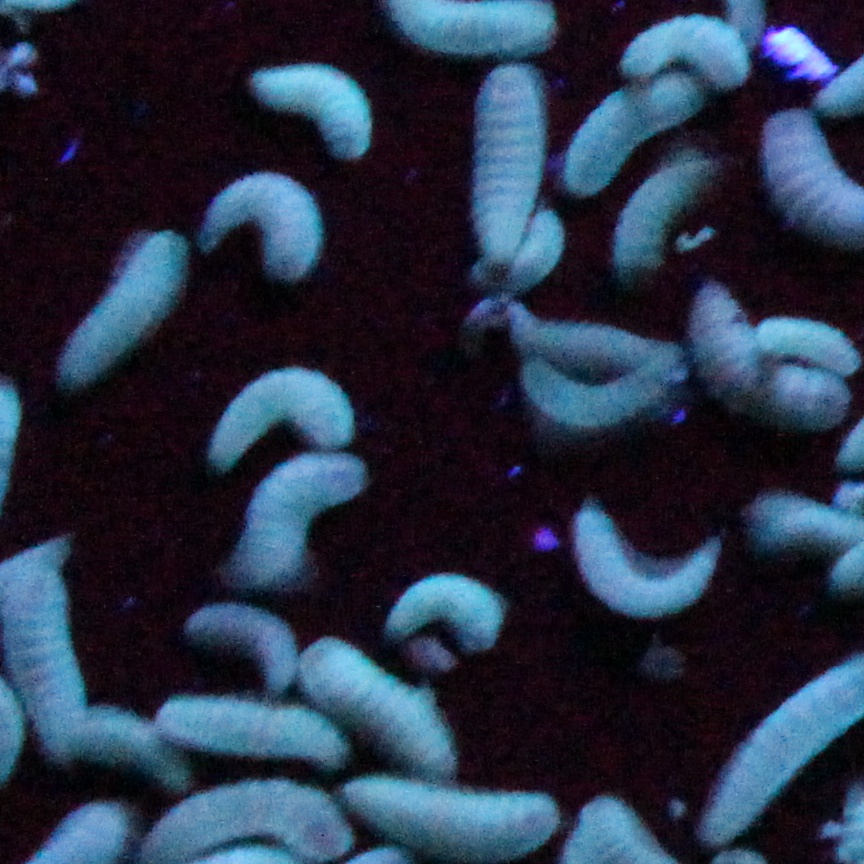larve: (698, 293, 845, 432), (313, 644, 454, 781), (63, 228, 178, 375), (233, 453, 357, 588), (156, 695, 352, 774), (559, 75, 698, 186), (15, 568, 87, 758), (208, 367, 354, 458), (156, 789, 345, 858), (582, 514, 701, 605), (245, 72, 370, 158), (349, 793, 554, 844), (217, 175, 315, 275), (626, 153, 701, 277), (475, 67, 527, 242), (512, 314, 664, 372), (527, 367, 663, 430), (629, 16, 747, 86), (199, 609, 294, 693), (401, 568, 503, 639), (92, 705, 175, 779), (492, 210, 568, 281), (768, 314, 863, 367)
